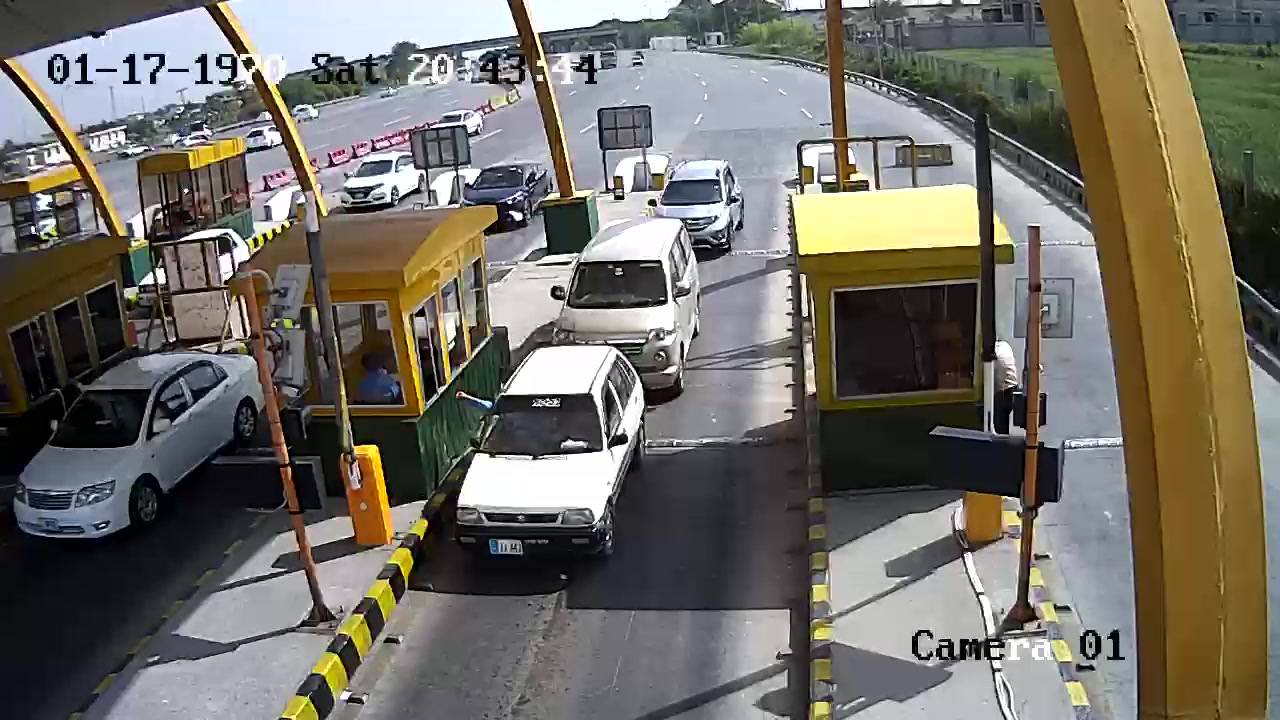F1: (448, 342, 650, 578), (549, 214, 710, 401)
